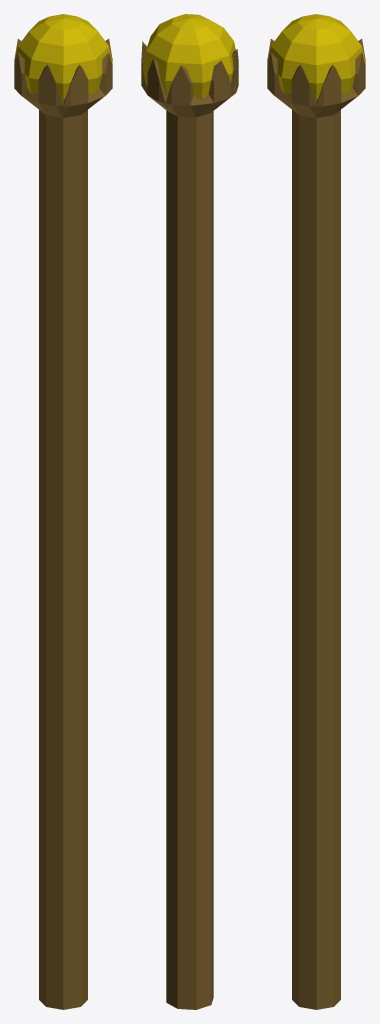
File: Wand.obj
The picture shows the model from 3 angles, left to right: view 1: azimuth 90°, elevation 25°; view 2: azimuth 150°, elevation 25°; view 3: azimuth 270°, elevation 25°; orthographic projection.
Visible parts, largest first — view 1: Stick, Orb; view 2: Stick, Orb; view 3: Stick, Orb.
Part boxes in pixels (left/top/right/bottom): Stick: left=14, top=39, right=112, bottom=1009; Orb: left=14, top=14, right=112, bottom=102; Stick: left=141, top=41, right=238, bottom=1009; Orb: left=142, top=14, right=235, bottom=98; Stick: left=267, top=39, right=365, bottom=1009; Orb: left=267, top=14, right=365, bottom=102.
Size of the model in its own units: 4 by 44 by 4.
